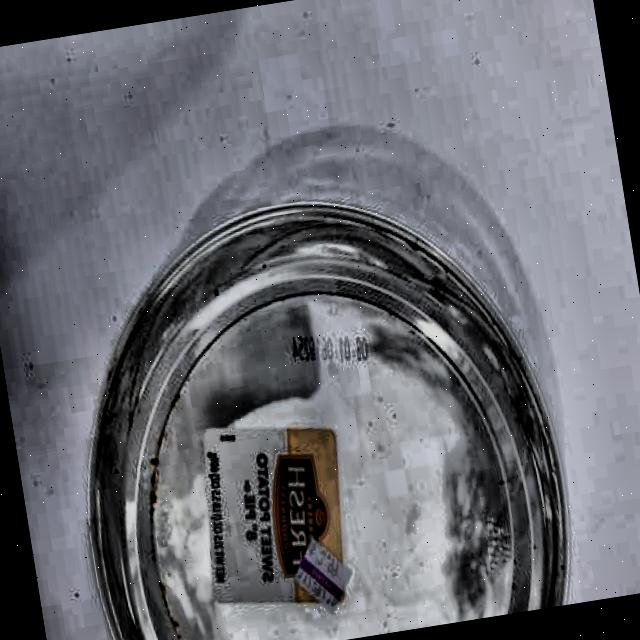plastic: (47, 171, 583, 640)
